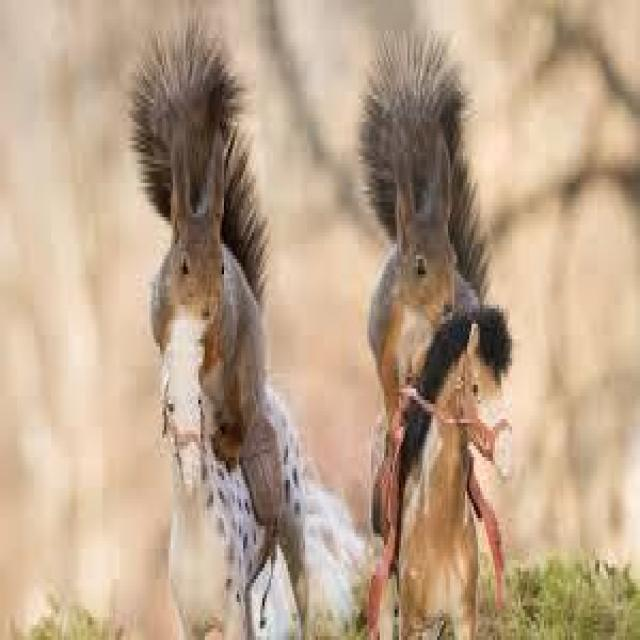license-plate: (136, 52, 318, 466), (352, 72, 478, 364)
